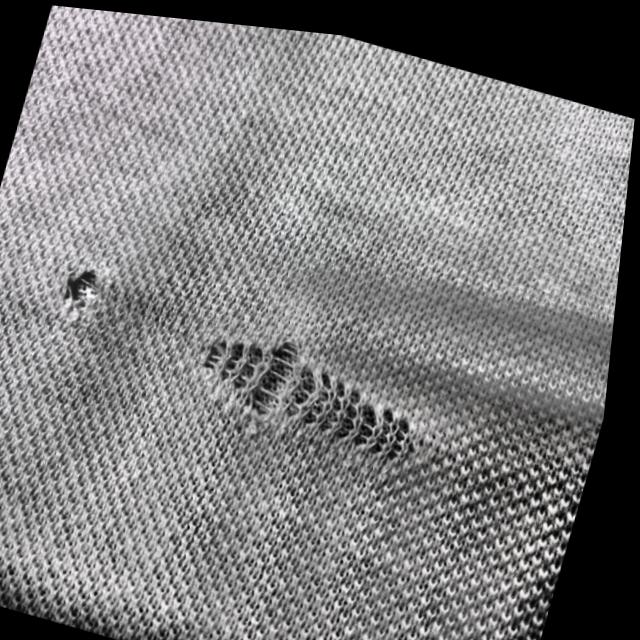Hole: (50, 255, 115, 325)
